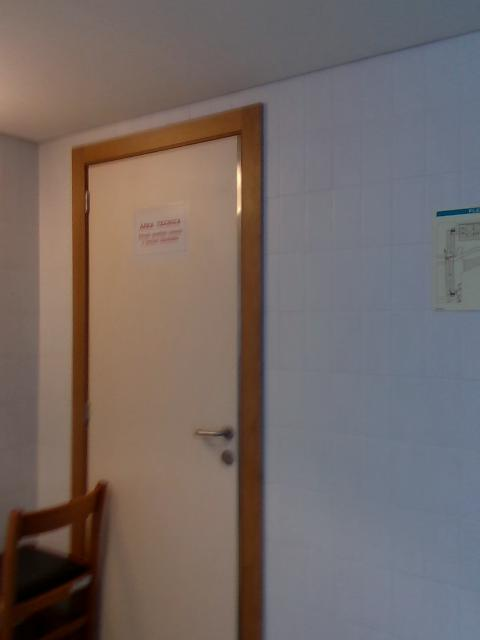closed_door: (71, 103, 265, 639)
